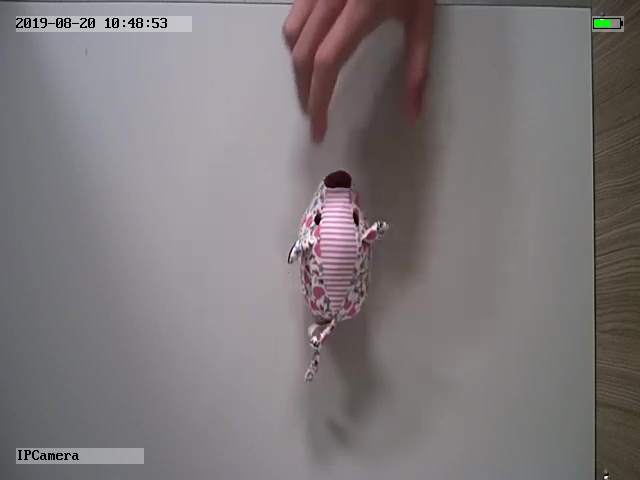pig: (285, 168, 389, 386)
